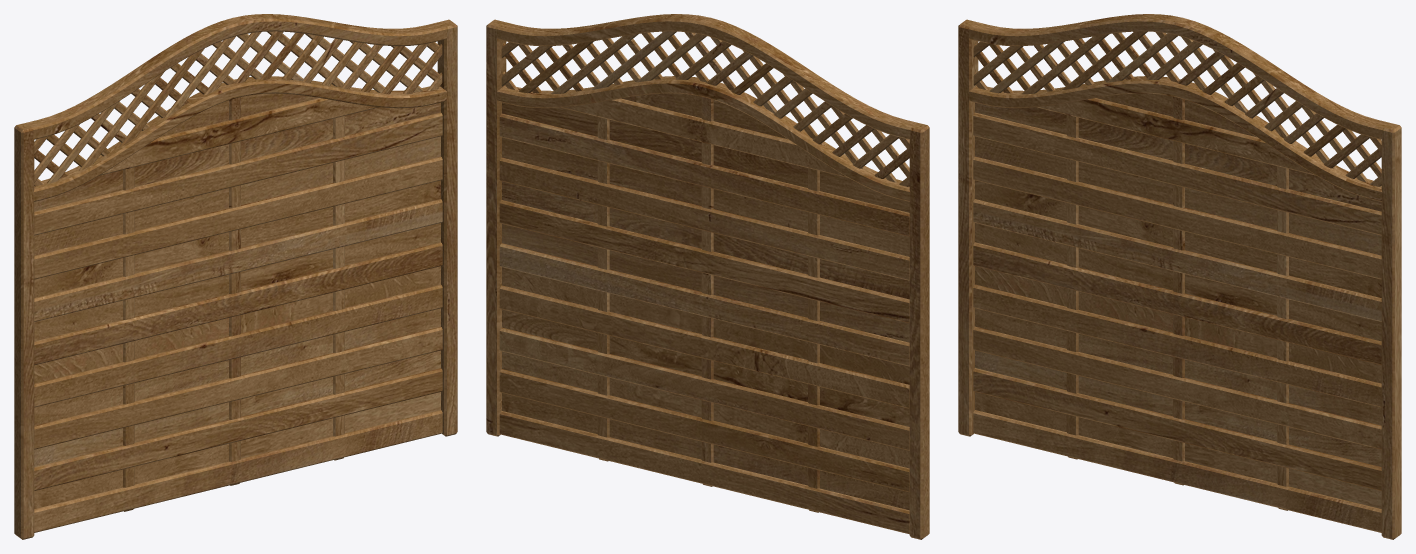
Rendered from fence.glb.
3 renders of one model, left to right at view 1: azimuth 30°, elevation 25°; view 2: azimuth 150°, elevation 25°; view 3: azimuth 330°, elevation 25°, orthographic.
Visible parts, largest first — view 1: Fence wood; view 2: Fence wood; view 3: Fence wood.
Part boxes in pixels (x1,y1,x2,y2): Fence wood: [14, 14, 457, 539]; Fence wood: [486, 14, 929, 539]; Fence wood: [958, 14, 1401, 539].
Size of the model in its own units: 1.86 by 1.89 by 0.0635.
Materials: 1 (1 with a texture image).
